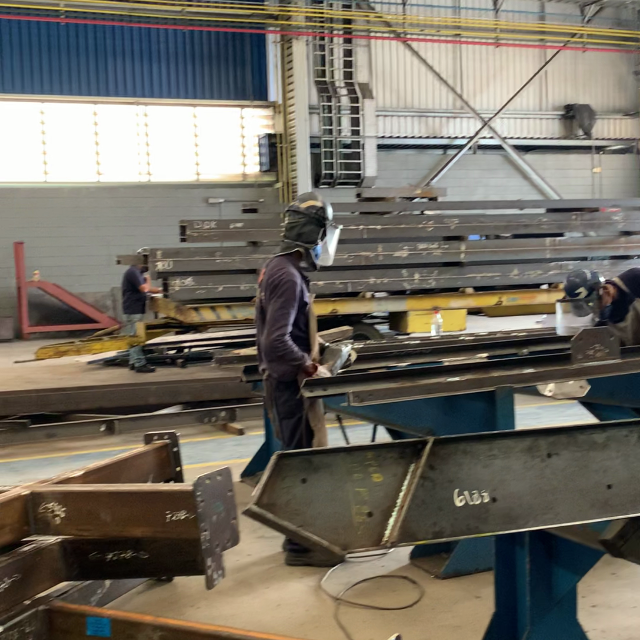face-shield: (305, 224, 337, 266), (563, 296, 598, 310)
glove: (312, 366, 333, 378)
helmet: (286, 190, 333, 222), (583, 269, 590, 302)
person: (255, 191, 354, 441), (564, 266, 636, 339)
safety-shoe: (283, 545, 347, 563)
